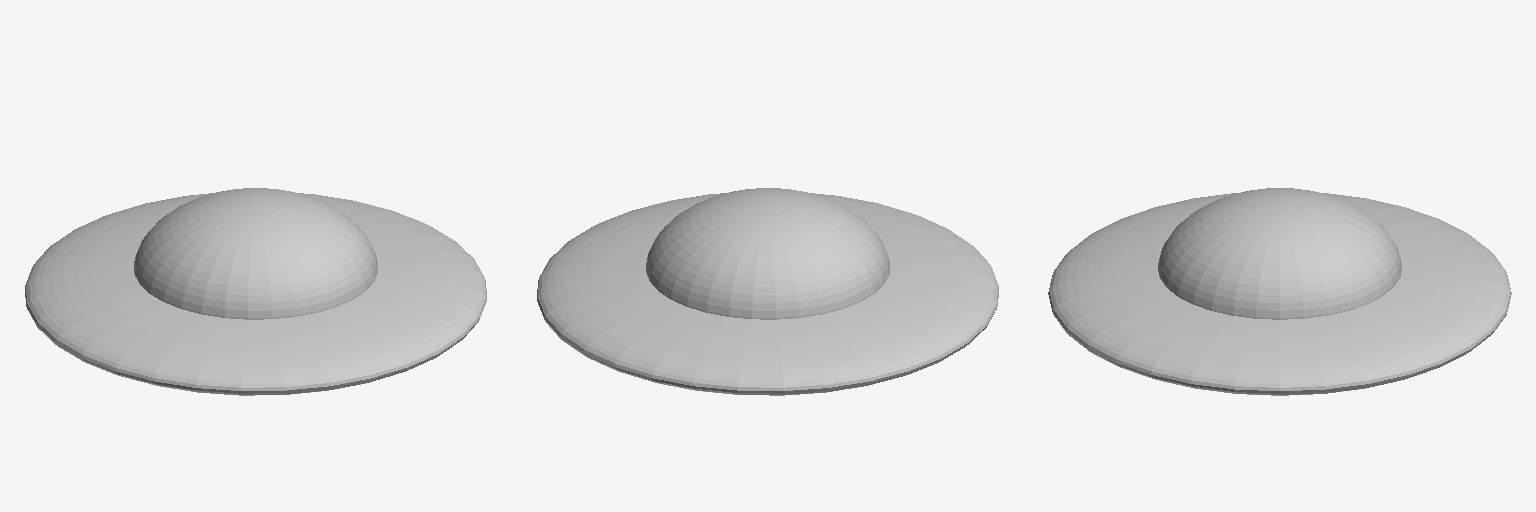
Rendered from saucer.obj.
The picture shows the model from 3 angles: view 1: azimuth 30°, elevation 25°; view 2: azimuth 150°, elevation 25°; view 3: azimuth 270°, elevation 25°; orthographic projection.
Parts seen in each view (by area): view 1: Figure 1; view 2: Figure 1; view 3: Figure 1.
Part boxes in pixels (x1,y1,x2,y2): Figure 1: (25,188,486,395); Figure 1: (537,188,998,395); Figure 1: (1048,188,1511,395).
Size of the model in its own units: 15.71 by 3.77 by 15.71.